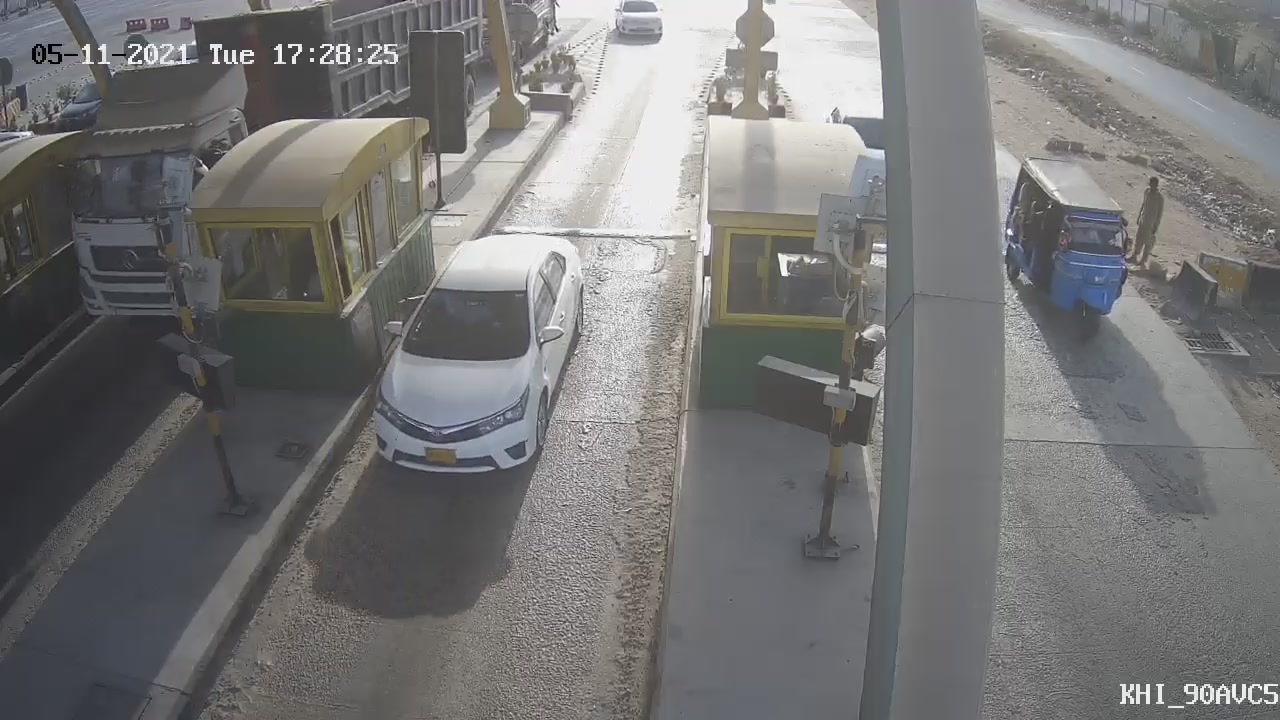F1: (342, 215, 604, 500)
